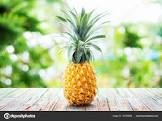Pineapple: (58, 9, 106, 107)
